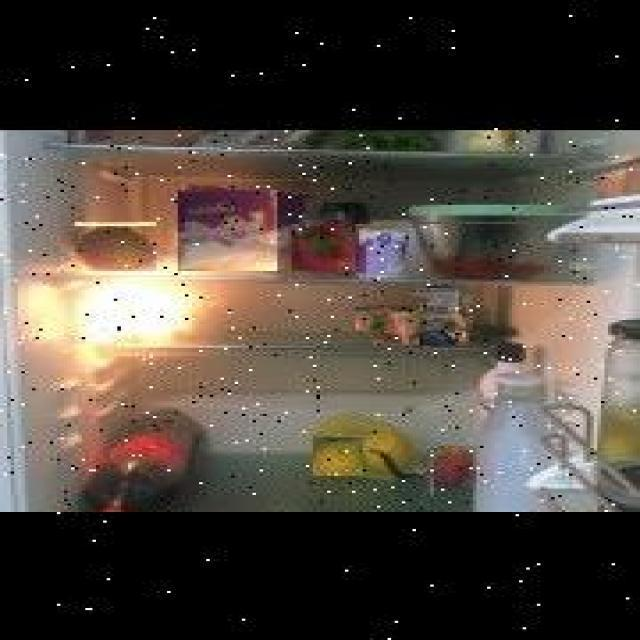apple: (432, 447, 475, 494)
bell_pepper: (292, 220, 356, 271)
garlic: (374, 312, 419, 342)
grated_cheese: (180, 188, 280, 269)
guacamole: (356, 305, 392, 329)
heavy_cream: (414, 286, 471, 344), (68, 128, 136, 145)
lemon: (313, 436, 363, 474)
mango: (75, 222, 156, 269)
salad: (331, 128, 441, 147)
yogurt: (357, 226, 407, 277)
